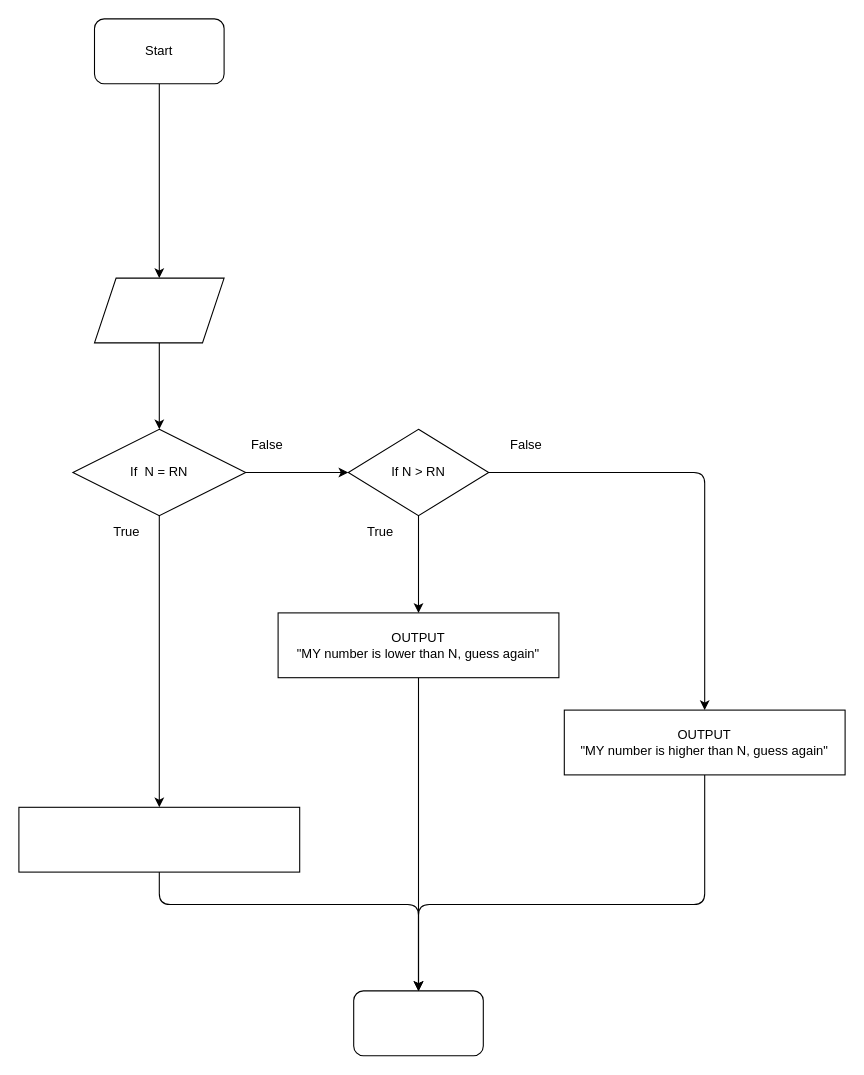
Image size: 864x1075. Some labels were removed from this diagram. Each missing label, with the centre of its shape:
End: pixel 418 1023
Input number N: pixel 158 310
OUTPUT "You are correct - the RN = N": pixel 159 839
